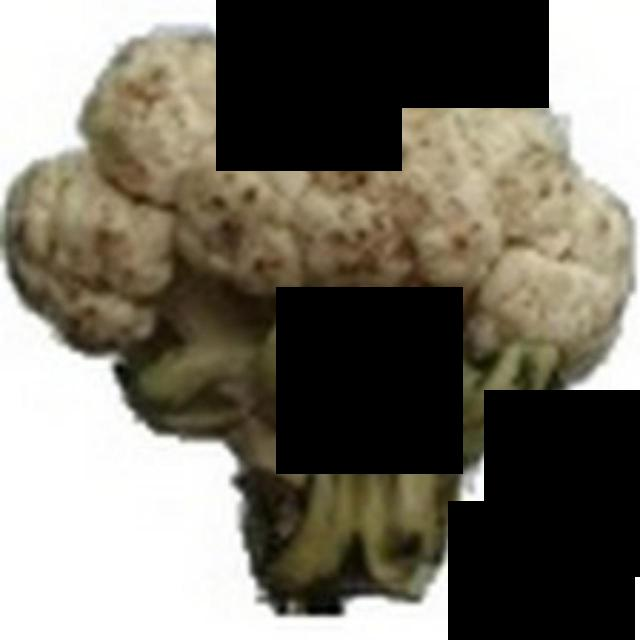cauliflower: (0, 11, 637, 637)
